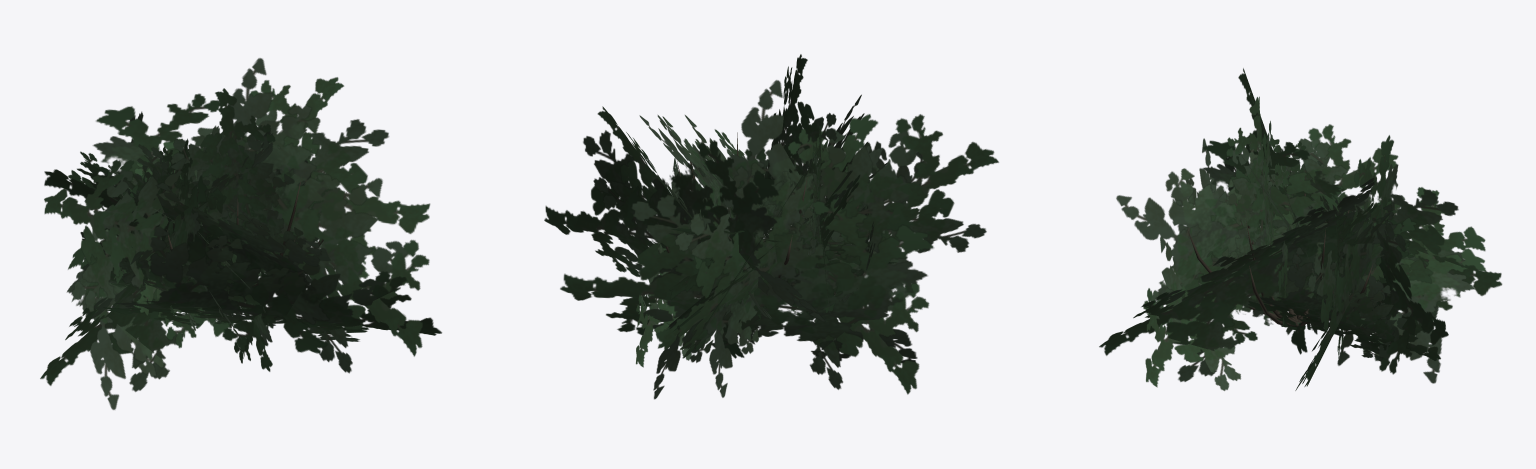
The model's file is bush02_04.glb.
3 views of the same model, side by side, from view 1: azimuth 30°, elevation 25°; view 2: azimuth 150°, elevation 25°; view 3: azimuth 270°, elevation 25° (orthographic). The views are drawn at different scales.
Visible parts, largest first — view 1: bush02_04; view 2: bush02_04; view 3: bush02_04.
Boxes of the visible parts, x1,y1,x2,y2 form: bush02_04: (40, 58, 441, 409); bush02_04: (544, 54, 998, 399); bush02_04: (1099, 68, 1502, 390).
Size of the model in its own units: 12.97 by 10.03 by 11.24.
2 materials, 2 textured.
